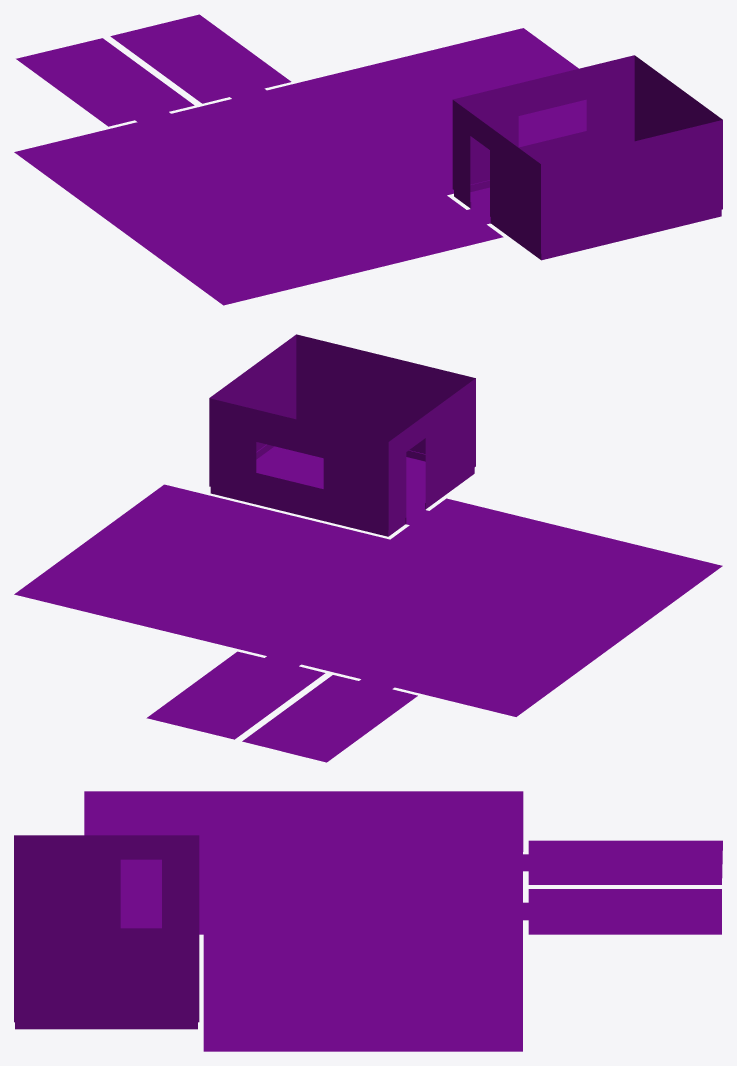
File: Ground.fbx
The picture shows the model from 3 angles, top to bottom: view 1: azimuth 30°, elevation 25°; view 2: azimuth 150°, elevation 25°; view 3: azimuth 270°, elevation 25°; orthographic projection. The views are drawn at different scales.
Parts seen in each view (by area): view 1: Ground_atlas_2; view 2: Ground_atlas_2; view 3: Ground_atlas_2.
Part boxes in pixels (box(x1,y1,x2,y2)): Ground_atlas_2: box(14, 14, 722, 305); Ground_atlas_2: box(14, 334, 722, 762); Ground_atlas_2: box(14, 791, 722, 1051).
Size of the model in its own units: 1735 by 315 by 1995.
